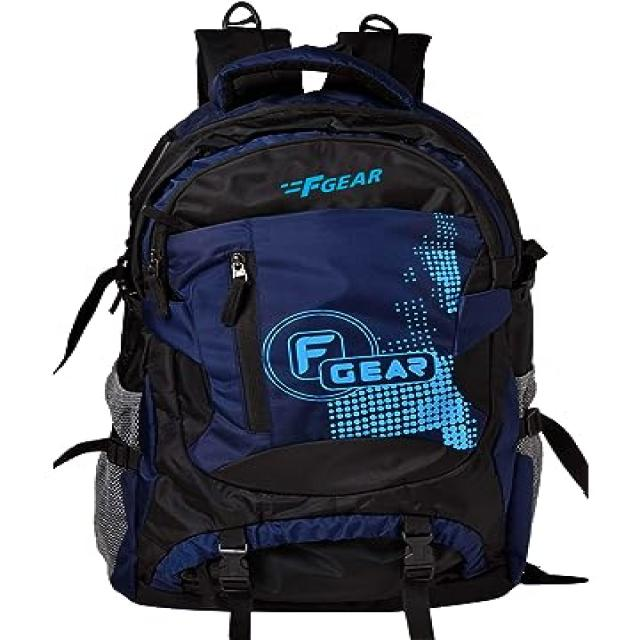backpack: (44, 1, 611, 640)
